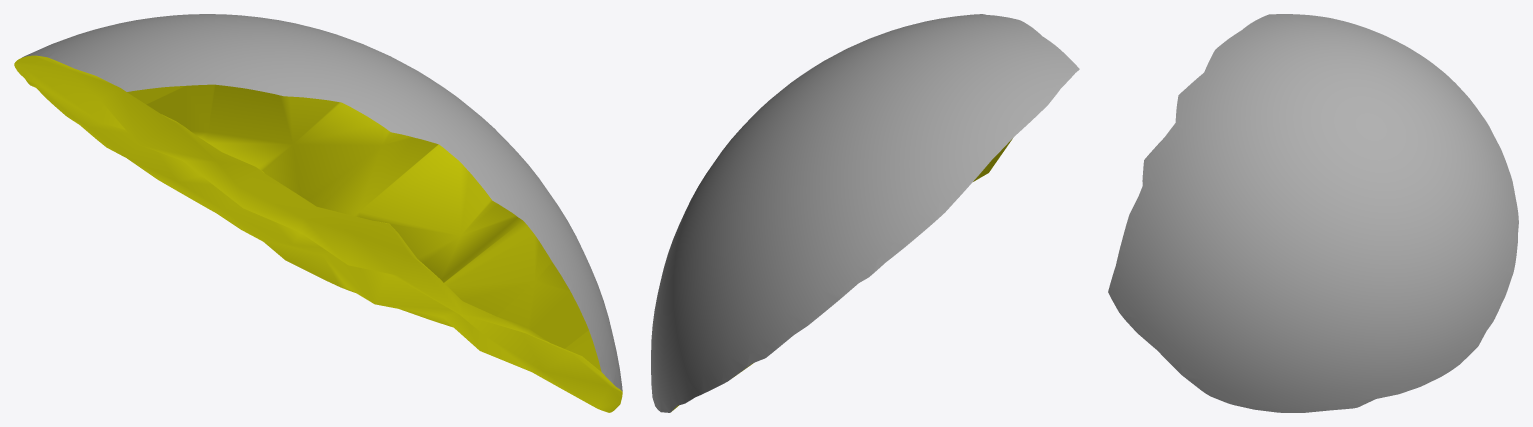
The model's file is moon_shard_7.fbx.
3 views of the same model, side by side, from view 1: azimuth 30°, elevation 25°; view 2: azimuth 150°, elevation 25°; view 3: azimuth 270°, elevation 25° (orthographic). The views are drawn at different scales.
Parts seen in each view (by area): view 1: shard7; view 2: shard7; view 3: shard7.
Boxes of the visible parts, x1,y1,x2,y2 form: shard7: (14,14,622,412); shard7: (651,14,1079,412); shard7: (1108,14,1518,412).
Bounding box in the file's own units: 20.7 × 18.49 × 25.58.
